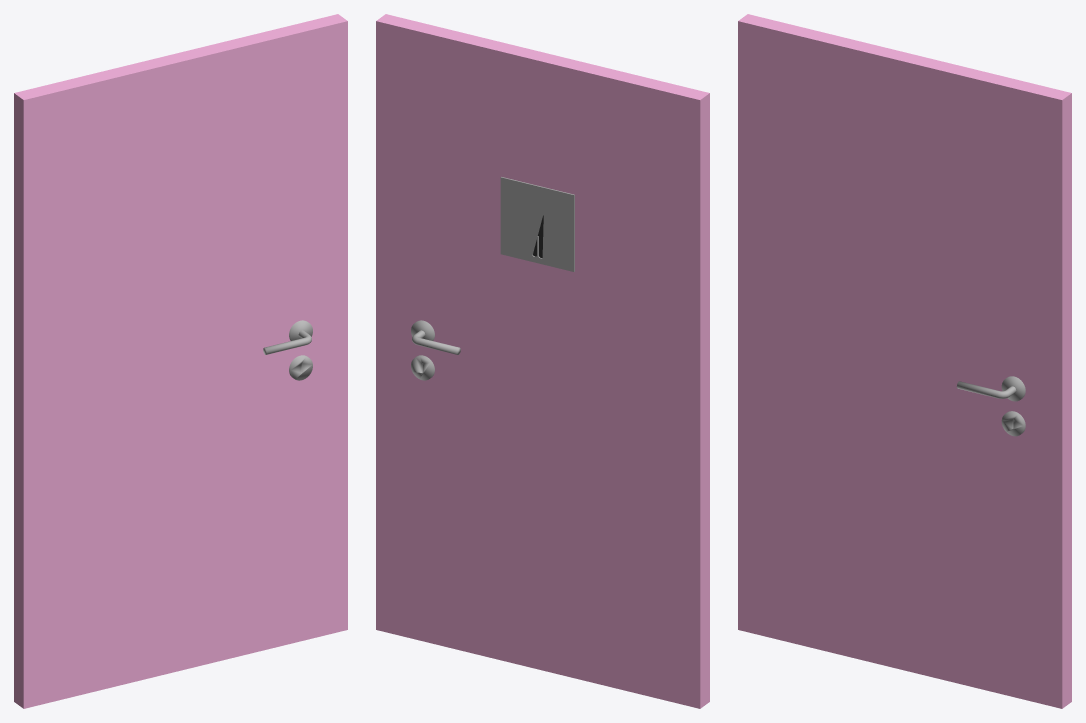
Rendered from Women.fbx.
The picture shows the model from 3 angles, left to right: view 1: azimuth 30°, elevation 25°; view 2: azimuth 150°, elevation 25°; view 3: azimuth 330°, elevation 25°; orthographic projection.
Visible parts, largest first — view 1: Door.001; view 2: Door.001; view 3: Door.001.
Boxes of the visible parts, x1,y1,x2,y2 form: Door.001: (14, 14, 347, 708); Door.001: (376, 14, 709, 708); Door.001: (738, 14, 1071, 708).
Bounding box in the file's own units: 148 × 267 × 27.09.
